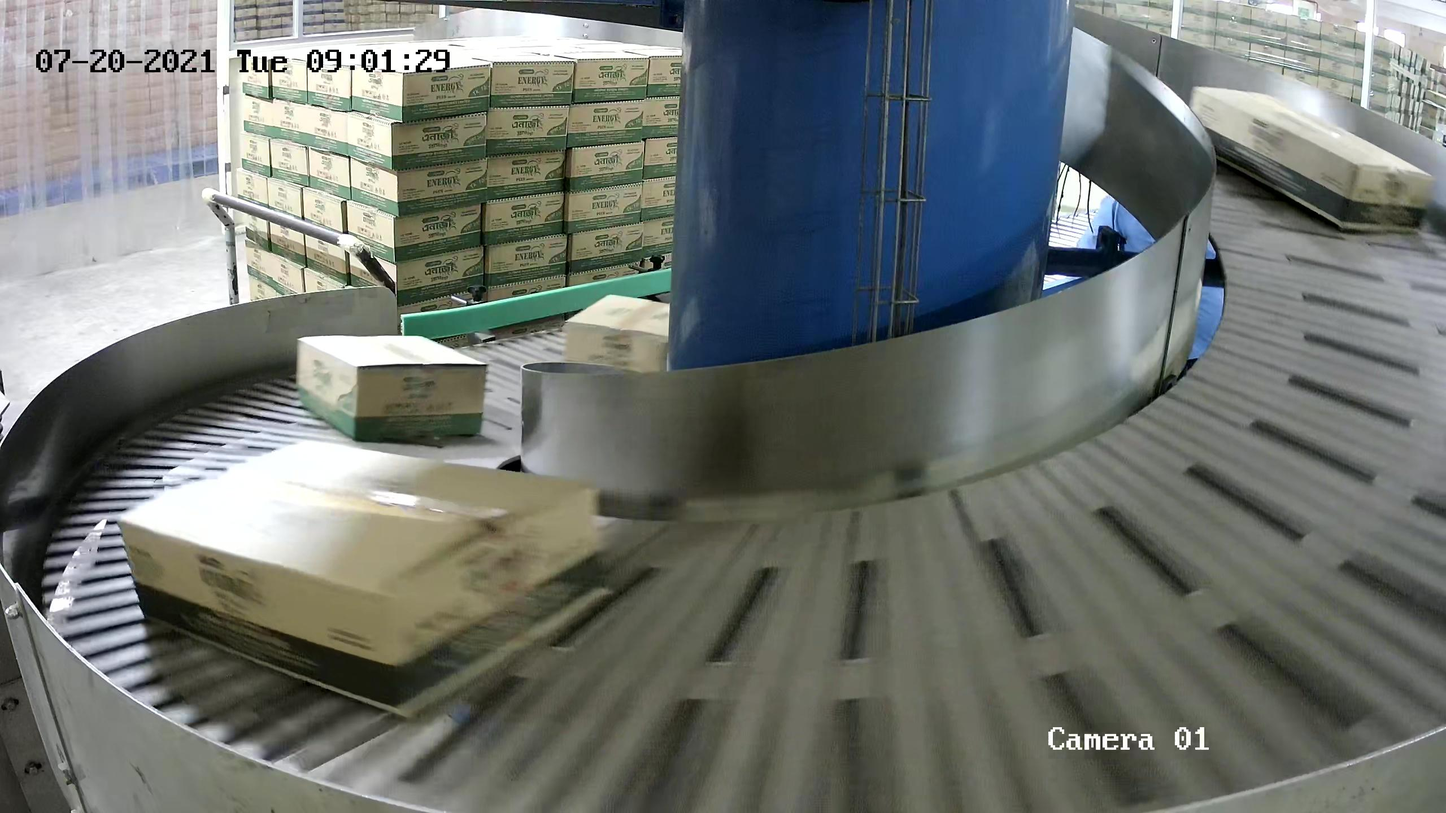Box: (118, 439, 609, 717), (1189, 84, 1435, 233), (295, 334, 490, 442)
